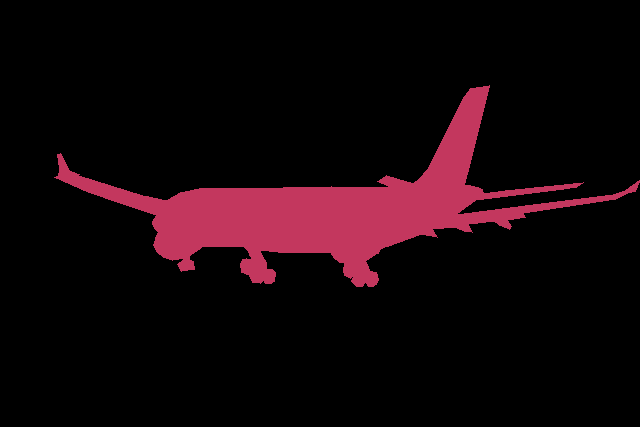Airplane: (54, 85, 640, 287)
